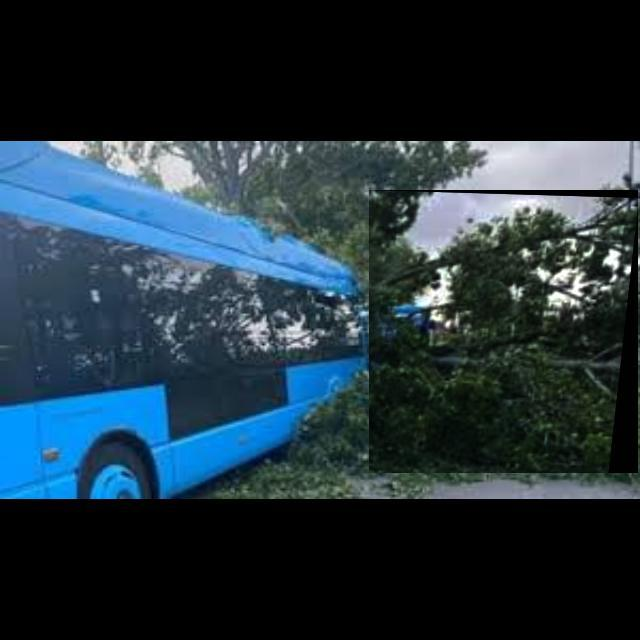fallen_tree: (369, 190, 639, 474)
